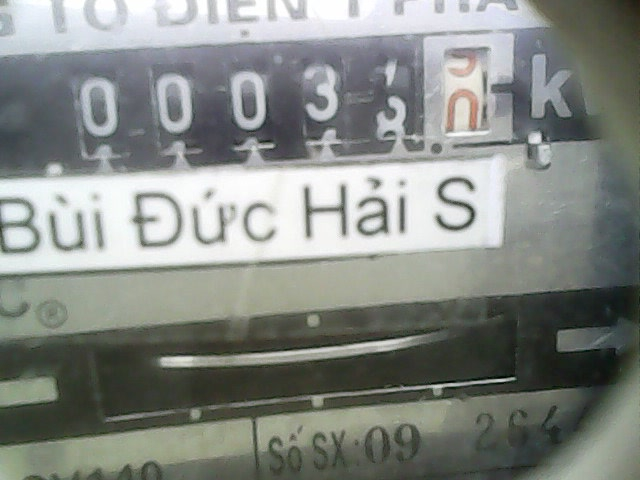phy_plate: (68, 32, 521, 154)
